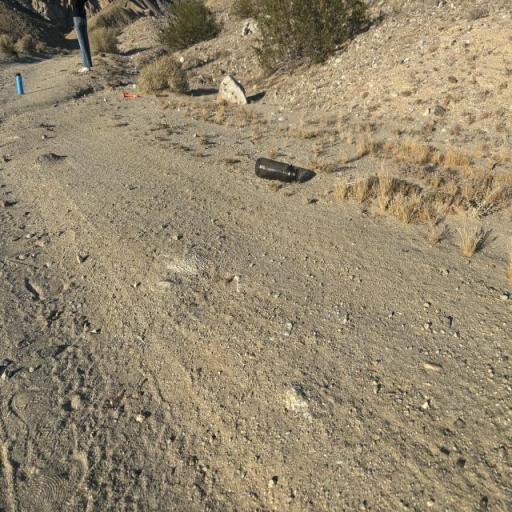bottle: (253, 154, 301, 188), (13, 69, 25, 96)
mallet: (120, 89, 141, 100)
